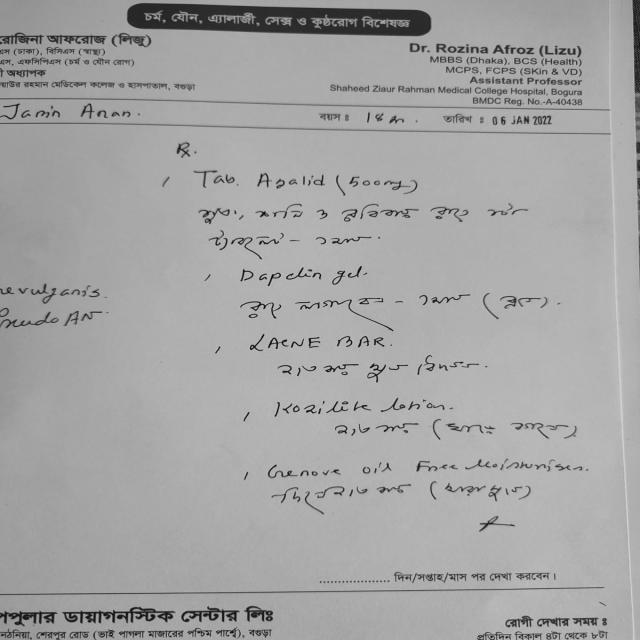Azalid: (250, 167, 339, 196)
Dapclin: (233, 261, 375, 294)
GENOVE Oil Free Moisturizer: (262, 456, 593, 483)
Kosilite Lotion: (271, 389, 452, 420)
Lacne Bar: (237, 328, 396, 359)
